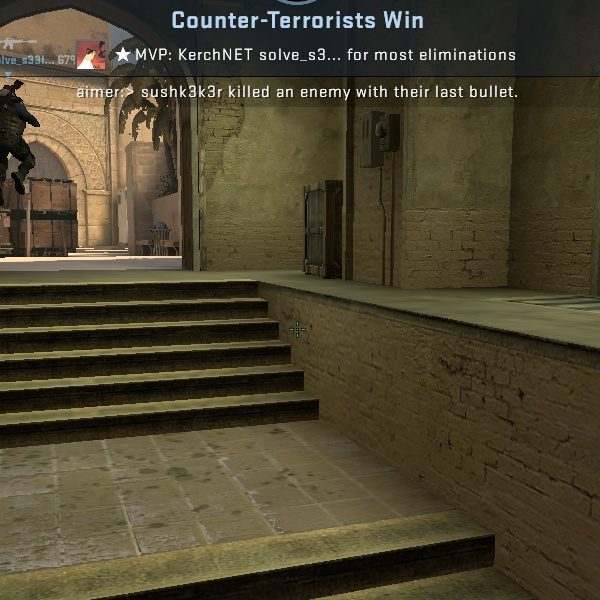ct_body: (2, 74, 42, 202)
